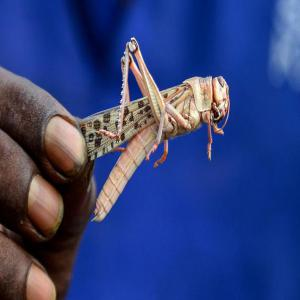locust: (81, 52, 253, 183)
